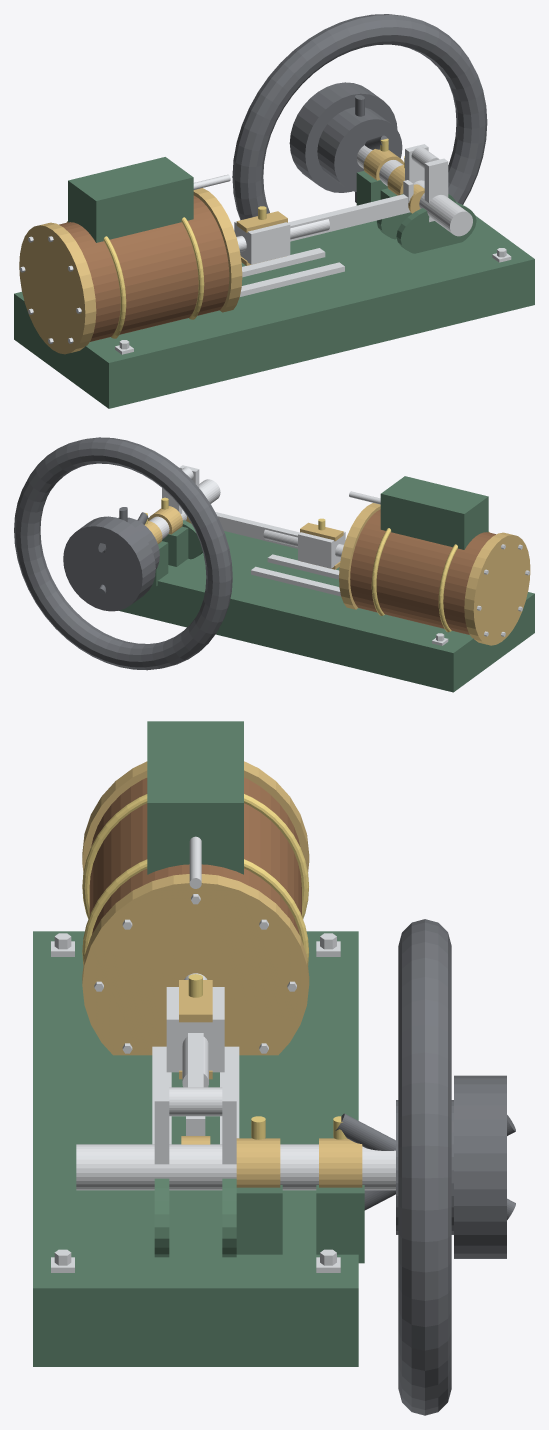
Rendered from steam_engine_drive.glb.
The picture shows the model from 3 angles, top to bottom: view 1: azimuth 30°, elevation 25°; view 2: azimuth 150°, elevation 25°; view 3: azimuth 270°, elevation 25°; orthographic projection. The views are drawn at different scales.
Parts seen in each view (by area): view 1: Cube, Torus.002, Cylinder.004, Cube.007, Cylinder.005, Cylinder.042, Cylinder.035, Cube.011, Cylinder.027, Cylinder.030, Cylinder.014, Cube.008 (+11 smaller); view 2: Cube, Torus.002, Cylinder.004, Cylinder.042, Cube.007, Cylinder.005, Cylinder.014, Cube.008, Cube.011, Cube.006, Cube.015, Cube.005 (+9 smaller); view 3: Cube, Cylinder.014, Torus.002, Cube.007, Cylinder.004, Cylinder.030, Cylinder.042, Cube.016, Cube.015, Cube.008, Cylinder.005, Torus (+14 smaller).
Boxes of the visible parts, <box> form: Cube: <box>14,201,534,408</box>; Torus.002: <box>232,14,487,220</box>; Cylinder.004: <box>59,195,229,341</box>; Cube.007: <box>68,157,193,242</box>; Cylinder.005: <box>19,222,96,354</box>; Cylinder.042: <box>289,82,397,192</box>; Cylinder.035: <box>317,107,402,191</box>; Cube.011: <box>288,194,410,241</box>; Cylinder.027: <box>396,203,476,253</box>; Cylinder.030: <box>356,145,472,236</box>; Cylinder.014: <box>193,188,242,312</box>; Cube.008: <box>234,221,290,264</box>; Cube: <box>119,531,534,692</box>; Torus.002: <box>14,437,232,670</box>; Cylinder.004: <box>350,509,495,634</box>; Cylinder.042: <box>63,516,155,611</box>; Cube.007: <box>380,476,488,549</box>; Cylinder.005: <box>464,532,530,645</box>; Cylinder.014: <box>339,503,380,609</box>; Cube.008: <box>298,531,345,568</box>; Cube.011: <box>215,512,299,548</box>; Cube.006: <box>251,566,340,596</box>; Cube.015: <box>162,526,188,566</box>; Cube.005: <box>267,554,339,579</box>; Cube: <box>33,931,358,1366</box>; Cylinder.014: <box>82,874,309,1055</box>; Torus.002: <box>398,919,451,1415</box>; Cube.007: <box>147,721,243,874</box>; Cylinder.004: <box>89,777,301,934</box>; Cylinder.030: <box>76,1144,395,1190</box>; Cylinder.042: <box>454,1075,506,1258</box>; Cube.016: <box>316,1185,364,1263</box>; Cube.015: <box>236,1185,282,1254</box>; Cube.008: <box>166,987,224,1072</box>; Cylinder.005: <box>82,761,309,871</box>; Torus: <box>82,794,308,918</box>.
Size of the model in its own units: 4.13 by 2.06 by 2.
